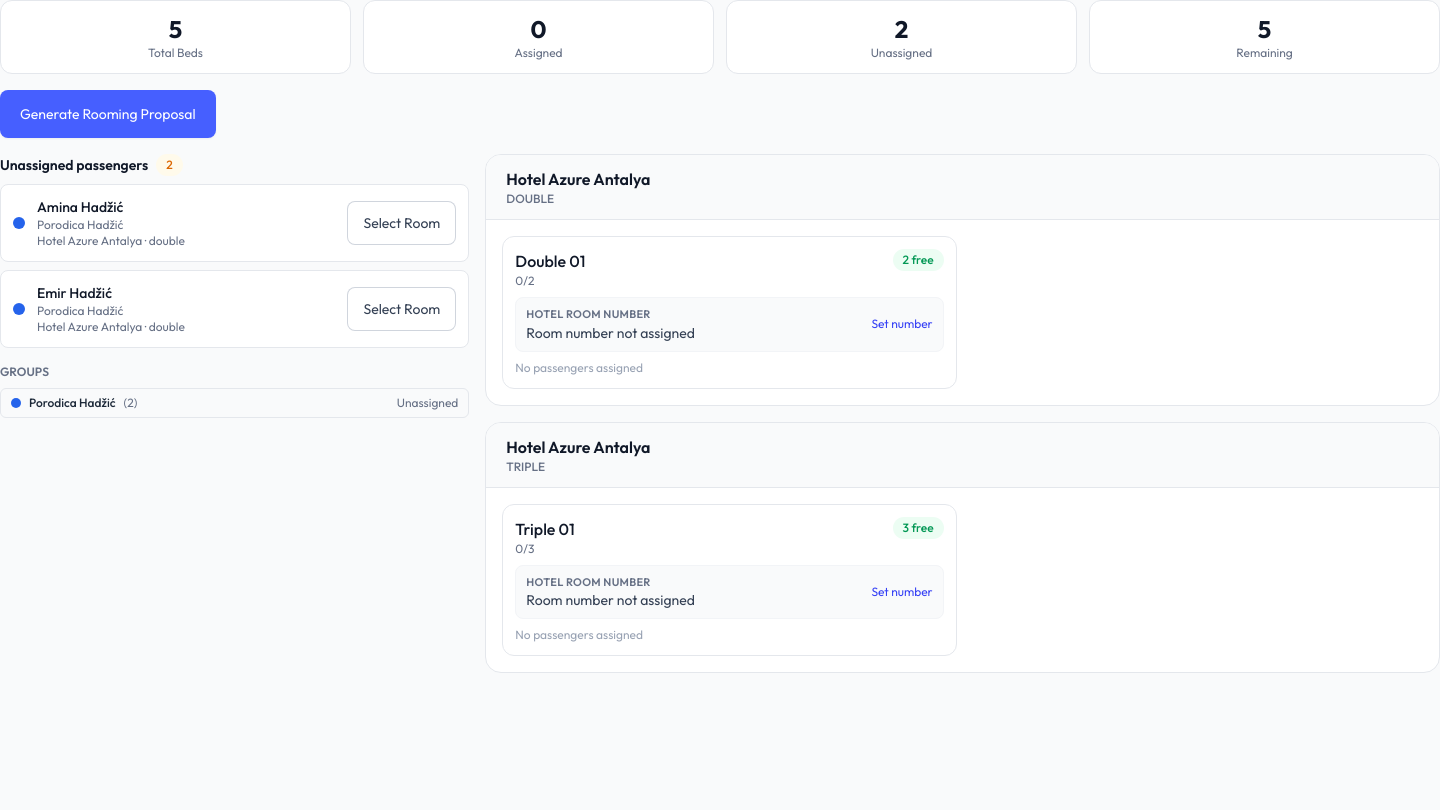
RoomingWorkspace room slots › clears proposal preview after a manual assign mutation
Click the button "Generate Rooming Proposal" at (108, 114), box [0,90,216,138]
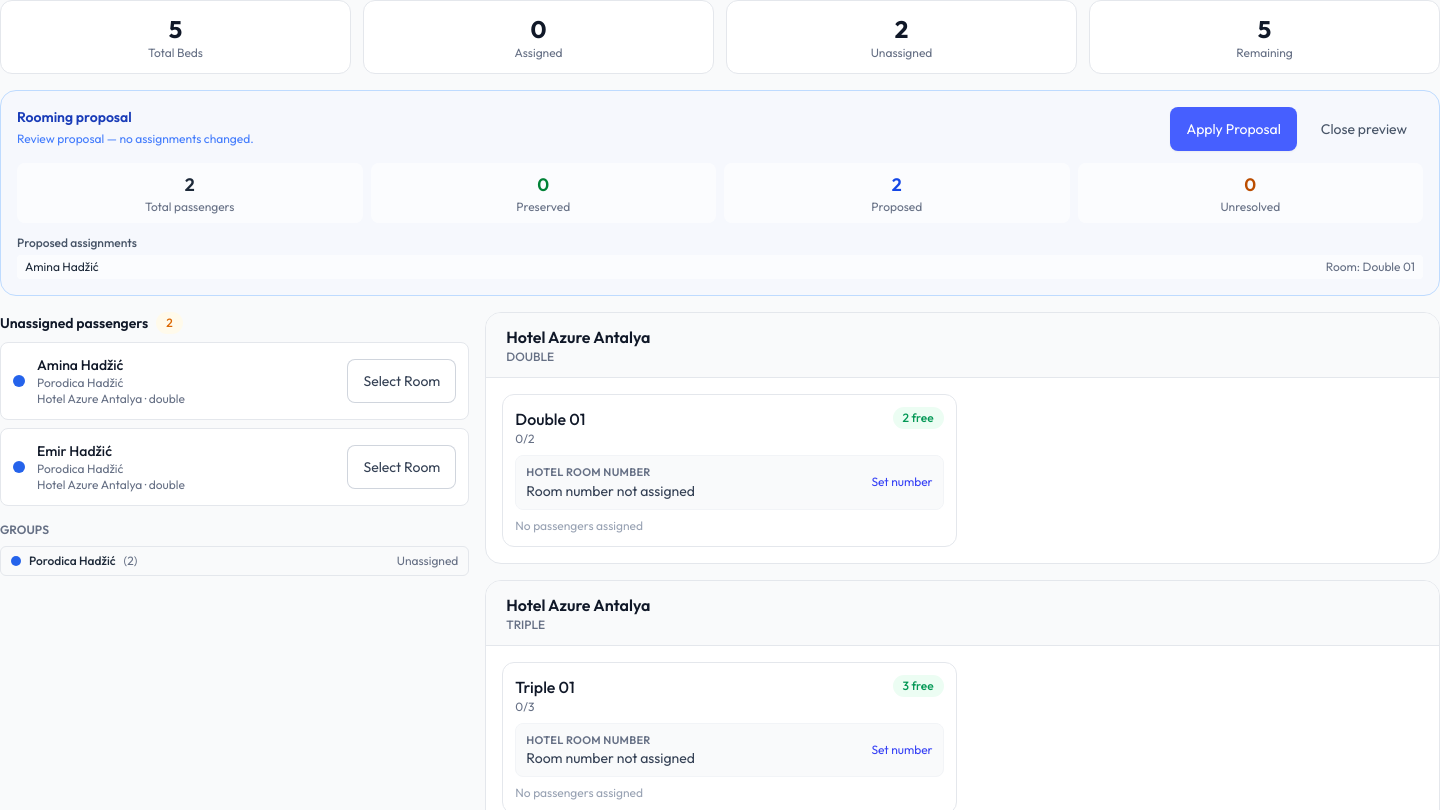
expect the heading "Rooming proposal" is shown: met, box [17,108,132,126]
Click the button "Select Room" in the row of "Emir Hadžić" at (402, 467), box [348,445,456,489]
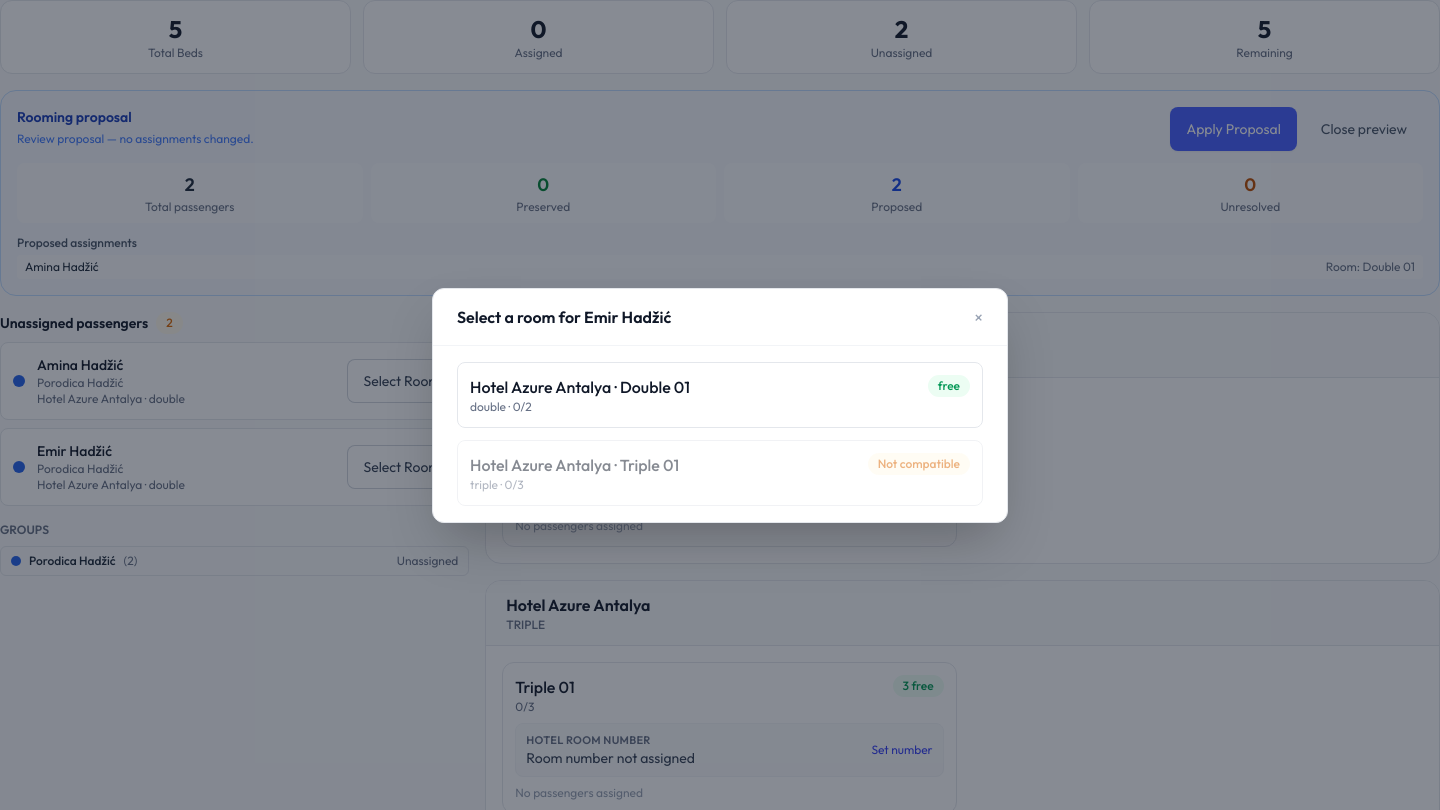
Click the button "Hotel Azure Antalya · Double 01 double · 0/2 free" at (541, 386), box [457,362,983,428]
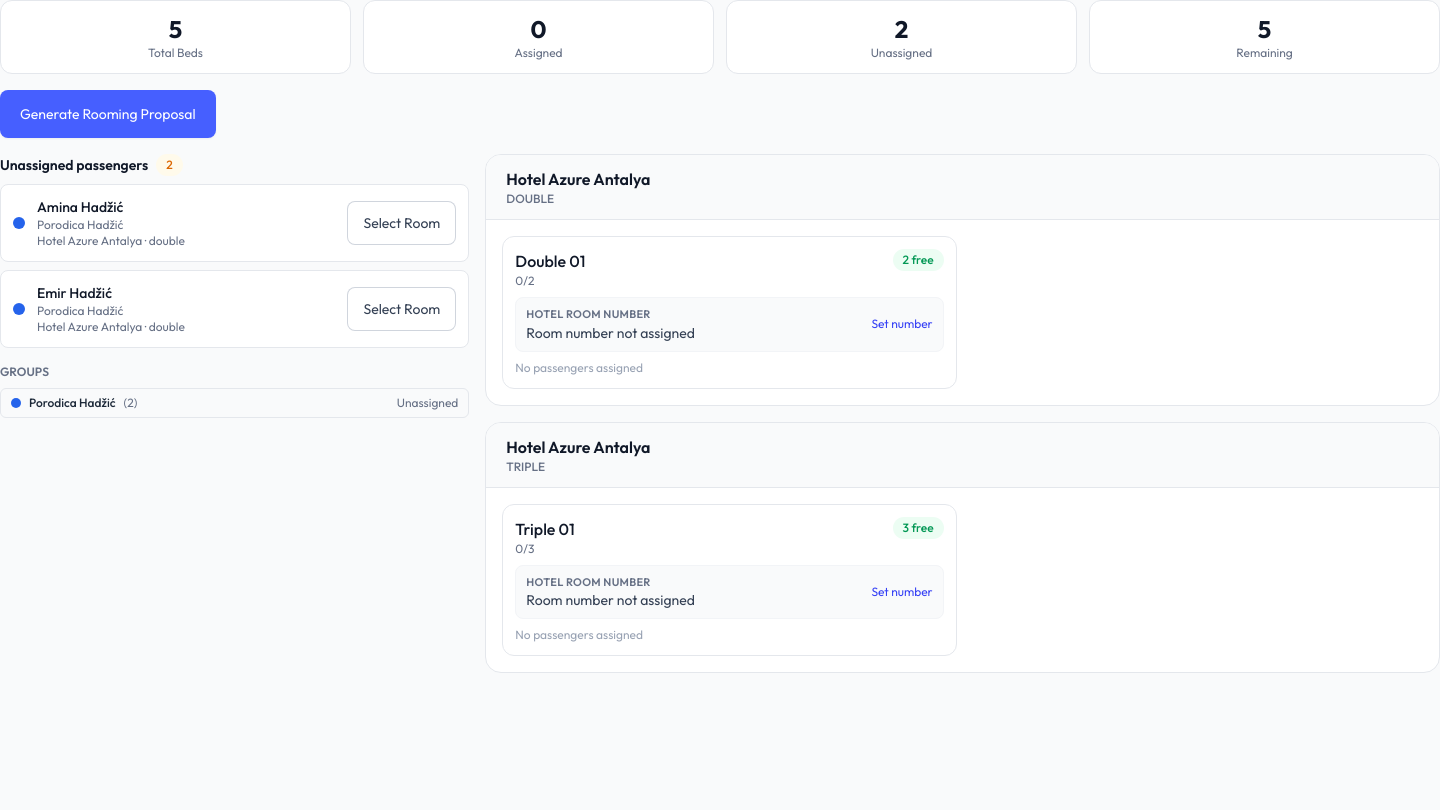
expect the button "Close preview" is gone: met
